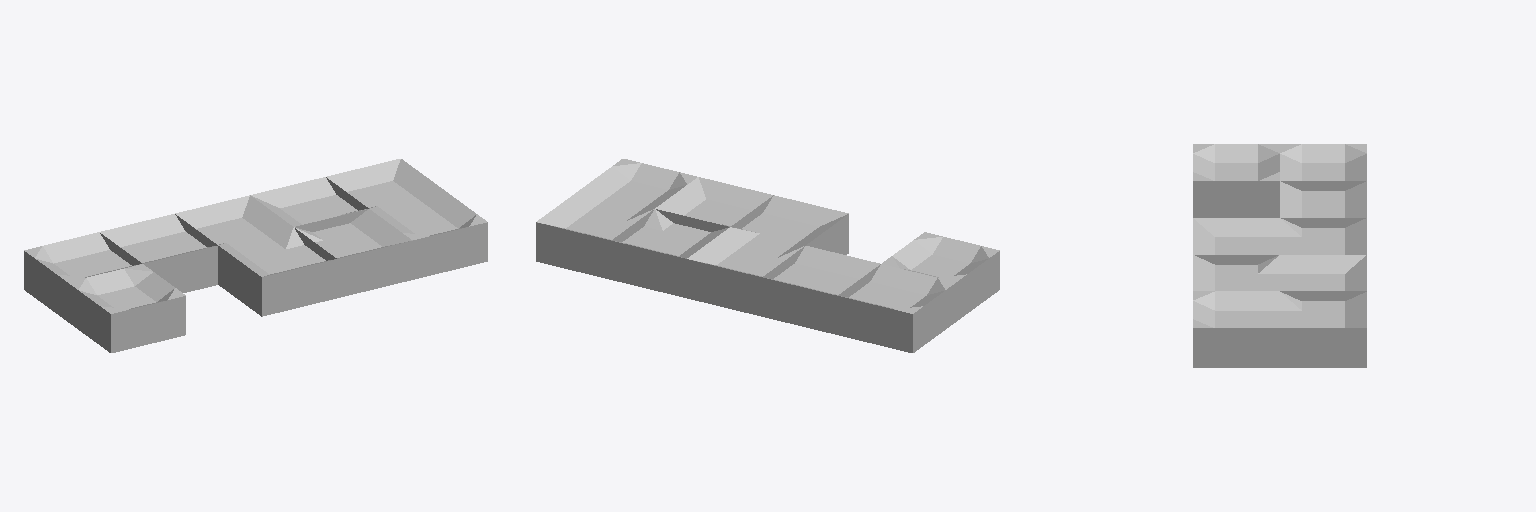
The model's file is 72s_path.obj.
3 renders of one model, left to right at view 1: azimuth 30°, elevation 25°; view 2: azimuth 150°, elevation 25°; view 3: azimuth 270°, elevation 25°, orthographic.
Visible parts, largest first — view 1: hole.0.1_Cube.294, corner.2.1_corner.1452, corner.3.1_corner.1454, ending.4.1_ending.586, through.1.2_through.302, ending.0.2_ending.585, corner.4.2_corner.1456, corner.2.2_corner.1453, corner.3.2_corner.1455; view 2: ending.0.2_ending.585, through.1.2_through.302, corner.4.2_corner.1456, corner.2.2_corner.1453, corner.3.2_corner.1455, hole.0.1_Cube.294, corner.2.1_corner.1452, ending.4.1_ending.586, corner.3.1_corner.1454; view 3: ending.4.1_ending.586, corner.4.2_corner.1456, hole.0.1_Cube.294, corner.2.1_corner.1452, through.1.2_through.302, ending.0.2_ending.585, corner.3.2_corner.1455, corner.2.2_corner.1453, corner.3.1_corner.1454.
Part boxes in pixels (left/top/right/bottom): hole.0.1_Cube.294: left=67, top=264, right=185, bottom=352; corner.2.1_corner.1452: left=218, top=227, right=336, bottom=316; corner.3.1_corner.1454: left=294, top=209, right=412, bottom=297; ending.4.1_ending.586: left=370, top=190, right=487, bottom=279; through.1.2_through.302: left=100, top=214, right=217, bottom=292; ending.0.2_ending.585: left=24, top=232, right=139, bottom=320; corner.4.2_corner.1456: left=326, top=159, right=443, bottom=213; corner.2.2_corner.1453: left=175, top=195, right=292, bottom=250; corner.3.2_corner.1455: left=251, top=177, right=365, bottom=231; ending.0.2_ending.585: left=838, top=264, right=956, bottom=352; through.1.2_through.302: left=762, top=246, right=880, bottom=334; corner.4.2_corner.1456: left=536, top=190, right=653, bottom=279; corner.2.2_corner.1453: left=687, top=227, right=804, bottom=316; corner.3.2_corner.1455: left=611, top=209, right=729, bottom=297; hole.0.1_Cube.294: left=882, top=232, right=999, bottom=320; corner.2.1_corner.1452: left=731, top=195, right=848, bottom=254; ending.4.1_ending.586: left=580, top=159, right=696, bottom=213; corner.3.1_corner.1454: left=655, top=177, right=772, bottom=231; ending.4.1_ending.586: left=1193, top=291, right=1279, bottom=367; corner.4.2_corner.1456: left=1280, top=291, right=1366, bottom=367; hole.0.1_Cube.294: left=1193, top=144, right=1279, bottom=217; corner.2.1_corner.1452: left=1193, top=218, right=1279, bottom=264; through.1.2_through.302: left=1280, top=181, right=1366, bottom=227; ending.0.2_ending.585: left=1280, top=144, right=1366, bottom=180; corner.3.2_corner.1455: left=1280, top=255, right=1366, bottom=290; corner.2.2_corner.1453: left=1280, top=218, right=1366, bottom=254; corner.3.1_corner.1454: left=1193, top=255, right=1279, bottom=290.
Size of the model in its own units: 10 by 1 by 4.